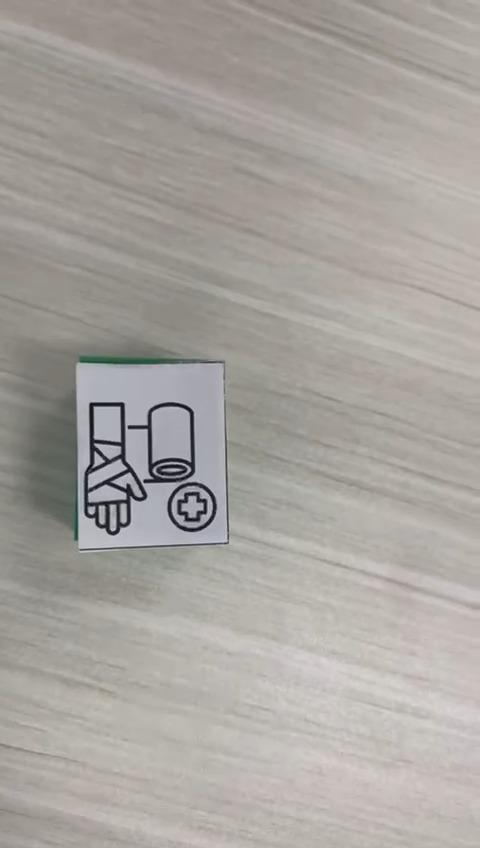Bandages: (75, 357, 230, 552)
